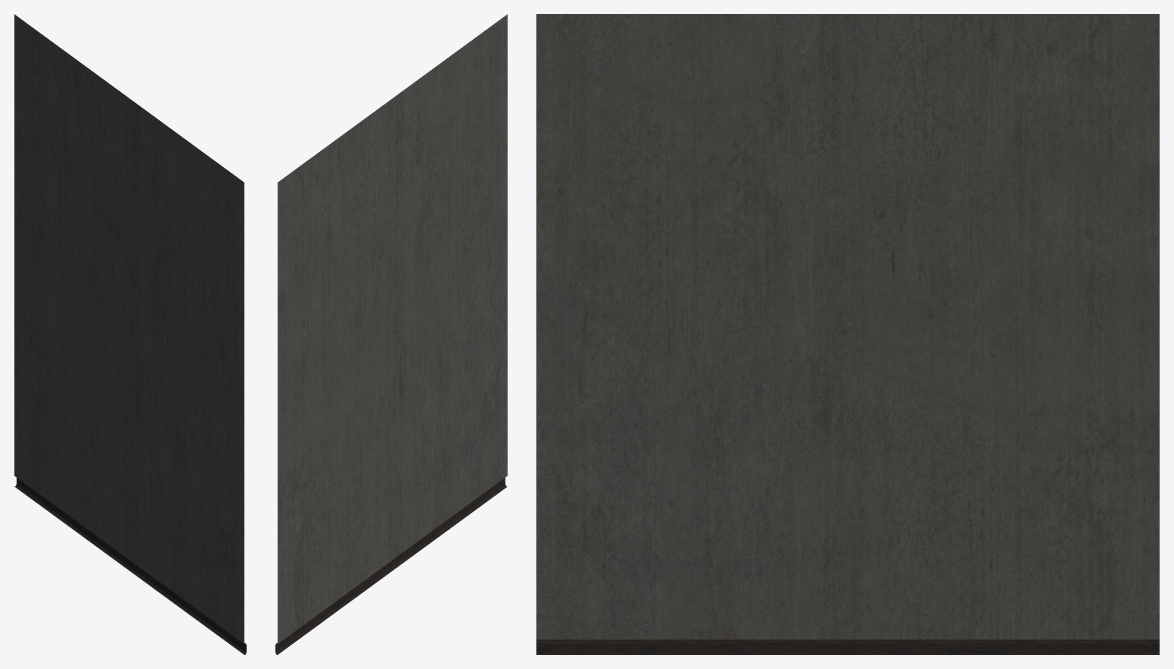
Rendered from Parede.fbx.
3 views of the same model, side by side, from view 1: azimuth 30°, elevation 25°; view 2: azimuth 150°, elevation 25°; view 3: azimuth 270°, elevation 25° (orthographic). The views are drawn at different scales.
Parts seen in each view (by area): view 1: Plane.007; view 2: Plane.007; view 3: Plane.007.
Part boxes in pixels (<box>): Plane.007: <box>14,14,246,654</box>; Plane.007: <box>275,14,507,654</box>; Plane.007: <box>536,14,1159,654</box>.
Size of the model in its own units: 6.95 by 1276 by 1126.
